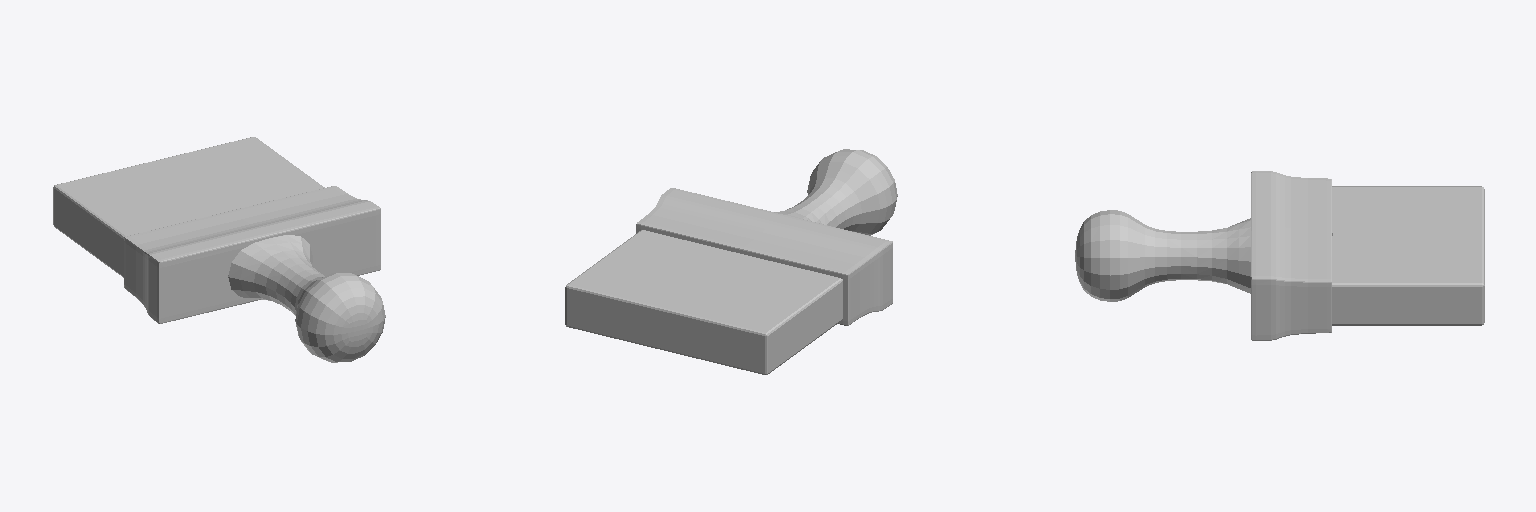
The model's file is paint_brush.obj.
3 views of the same model, side by side, from view 1: azimuth 30°, elevation 25°; view 2: azimuth 150°, elevation 25°; view 3: azimuth 270°, elevation 25° (orthographic).
Parts seen in each view (by area): view 1: paint_brush_paint_brush_mesh; view 2: paint_brush_paint_brush_mesh; view 3: paint_brush_paint_brush_mesh.
Boxes of the visible parts, x1,y1,x2,y2 form: paint_brush_paint_brush_mesh: [53, 137, 385, 362]; paint_brush_paint_brush_mesh: [565, 149, 897, 374]; paint_brush_paint_brush_mesh: [1075, 171, 1484, 340].
Bounding box in the file's own units: 0.1411 × 0.0507 × 0.2248.